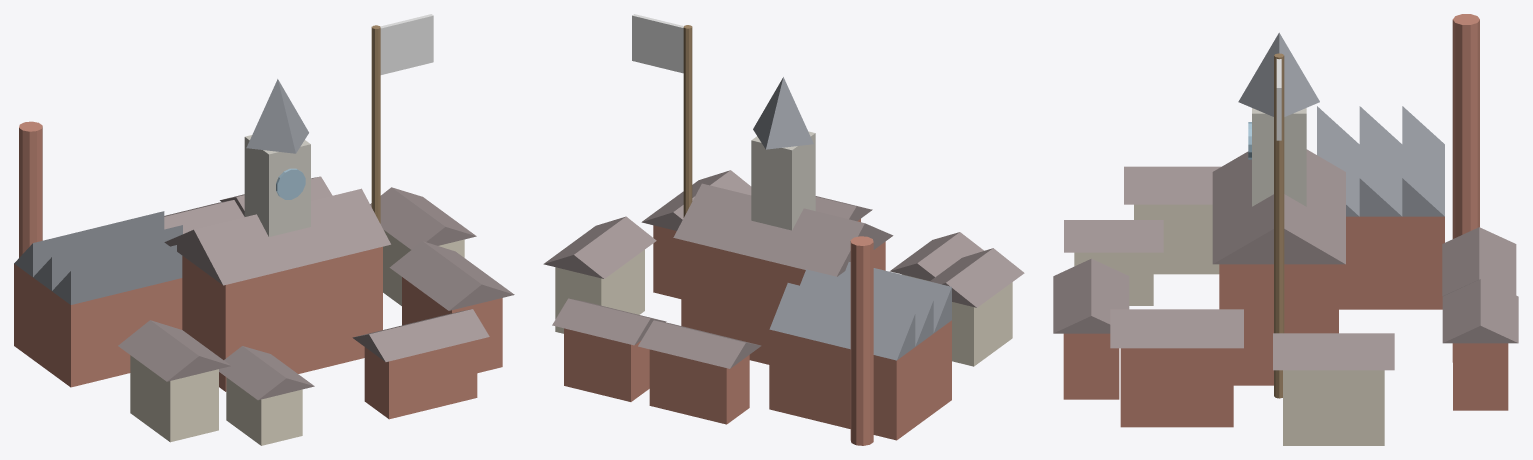
Rendered from civ_city_industrial_town.glb.
The picture shows the model from 3 angles, left to right: view 1: azimuth 30°, elevation 25°; view 2: azimuth 150°, elevation 25°; view 3: azimuth 270°, elevation 25°; orthographic projection. The views are drawn at different scales.
Visible parts, largest first — view 1: civ_city_industrial_town; view 2: civ_city_industrial_town; view 3: civ_city_industrial_town.
Part boxes in pixels (left/top/right/bottom): civ_city_industrial_town: left=14, top=14, right=514, bottom=445; civ_city_industrial_town: left=543, top=14, right=1024, bottom=445; civ_city_industrial_town: left=1053, top=14, right=1518, bottom=445.
Size of the model in its own units: 2.95 by 2.2 by 2.72.
